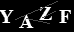A: (19, 14, 34, 29)
F: (58, 9, 72, 24)
Y: (1, 9, 14, 24)
Z: (37, 6, 54, 21)
